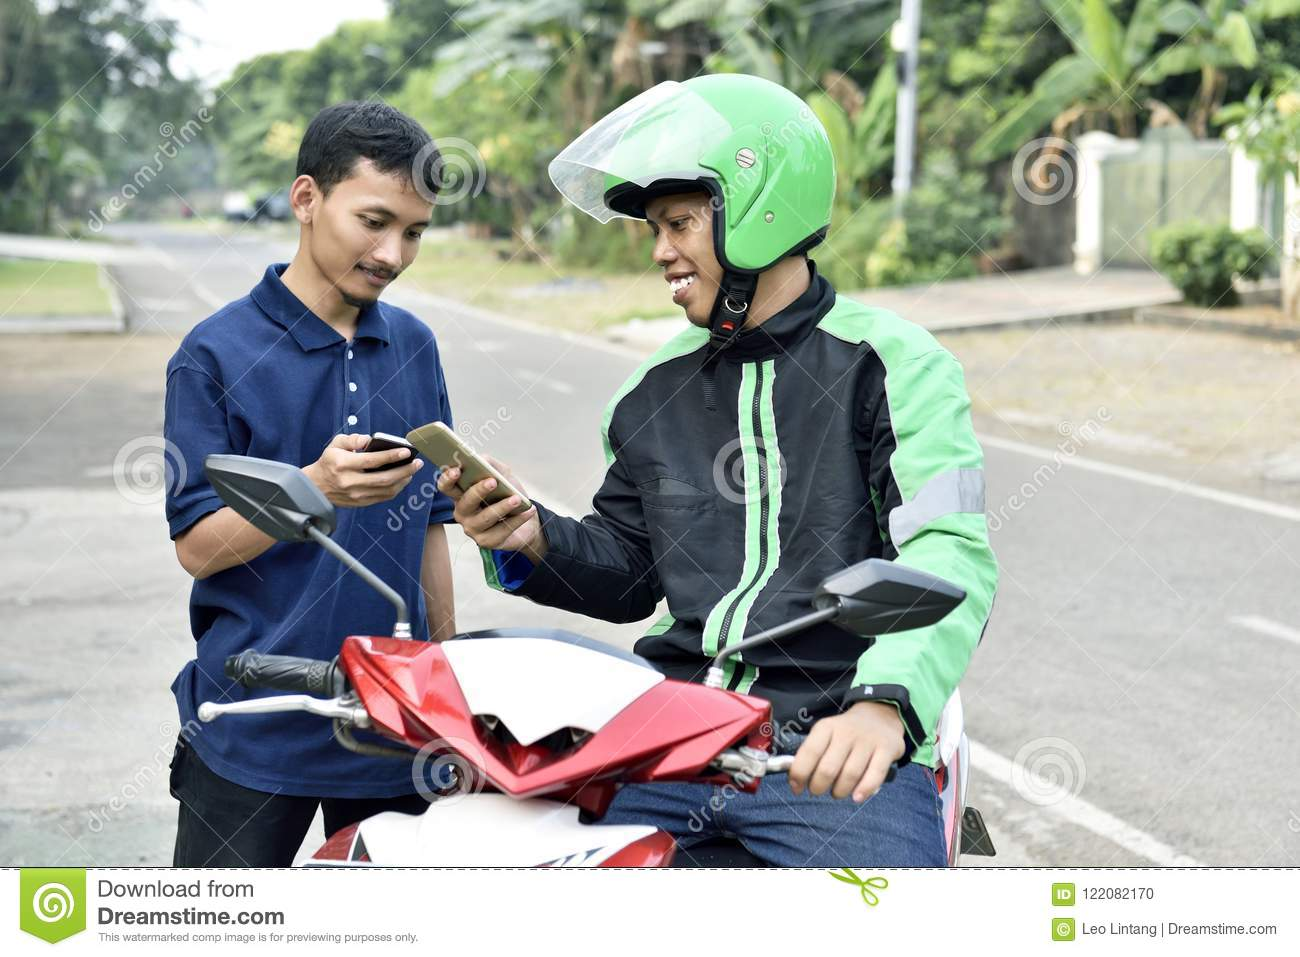helmet: (609, 85, 825, 263)
